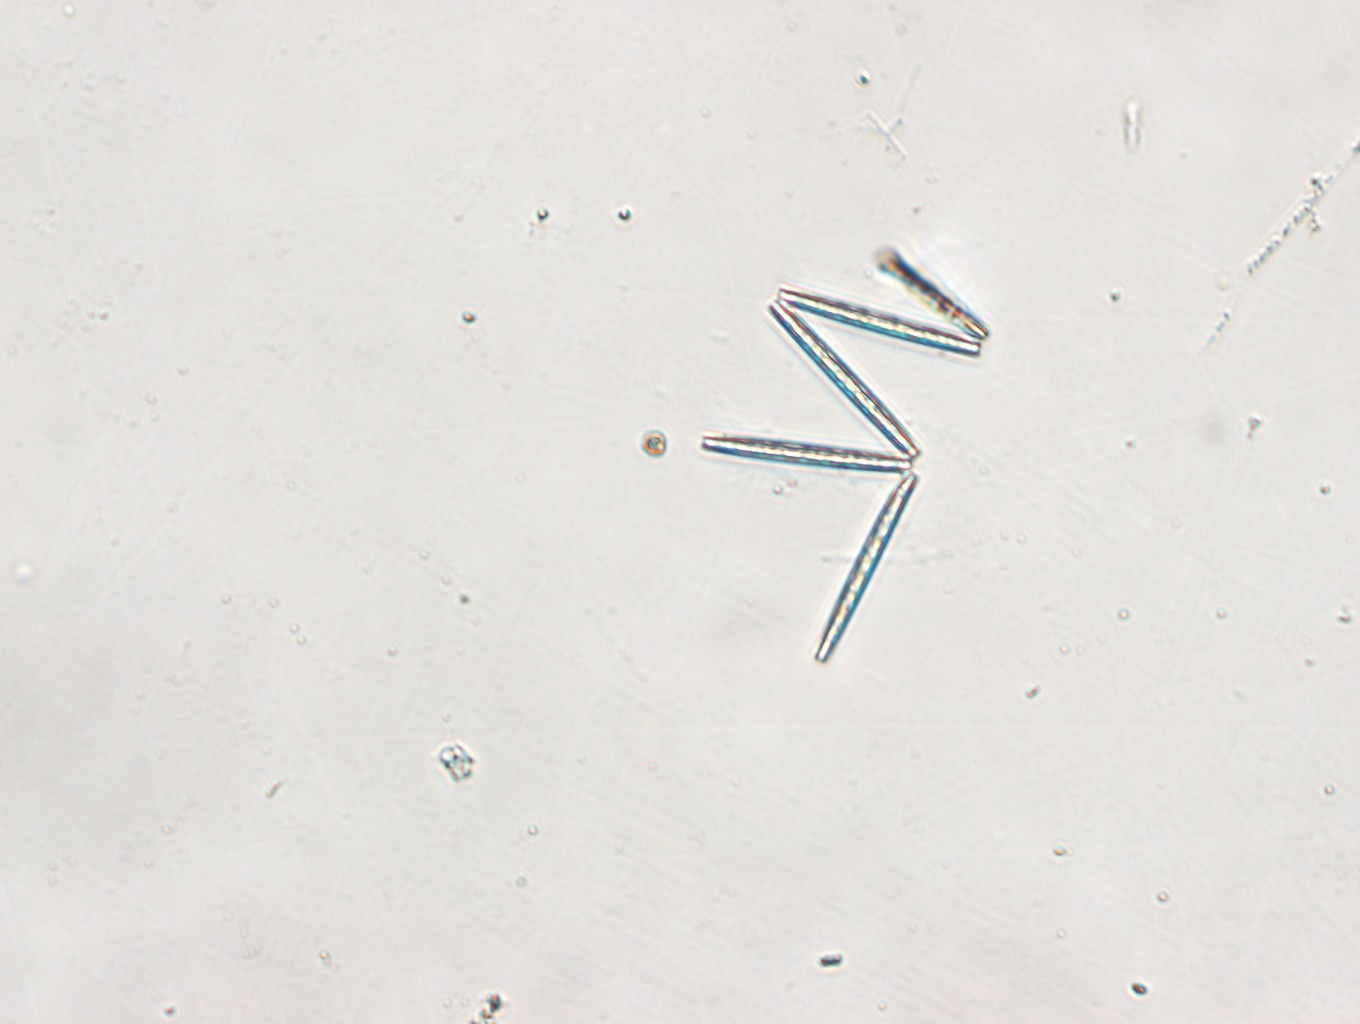thalassionema nitzschioides: (696, 237, 990, 669)
